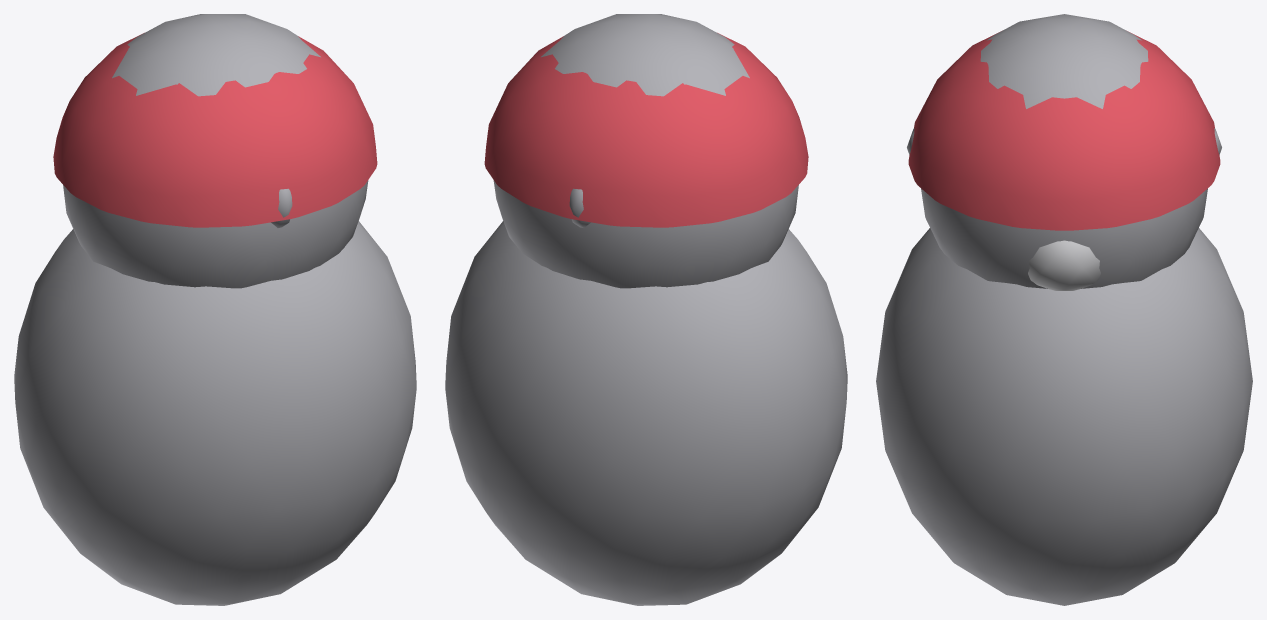
File: monkey.glb
3 views of the same model, side by side, from view 1: azimuth 30°, elevation 25°; view 2: azimuth 150°, elevation 25°; view 3: azimuth 270°, elevation 25° (orthographic).
Visible parts, largest first — view 1: body, head; view 2: body, head; view 3: body, head.
Part boxes in pixels (x1,y1,x2,y2): body: [14, 221, 416, 605]; head: [53, 14, 377, 288]; body: [445, 221, 847, 605]; head: [484, 14, 808, 288]; body: [876, 228, 1252, 605]; head: [907, 14, 1221, 290].
Size of the model in its own units: 0.68 by 1.03 by 0.6256.
